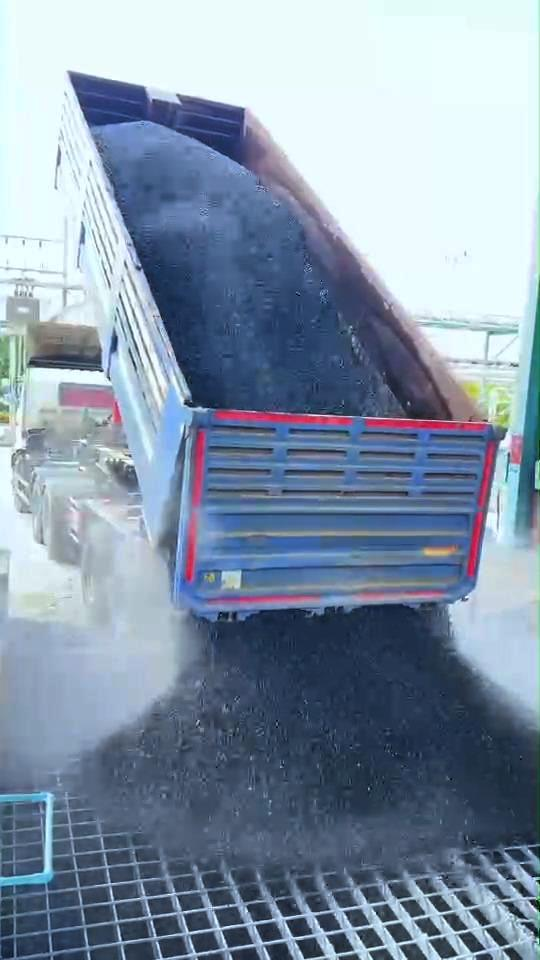gravel: (76, 608, 536, 864), (94, 122, 399, 412)
